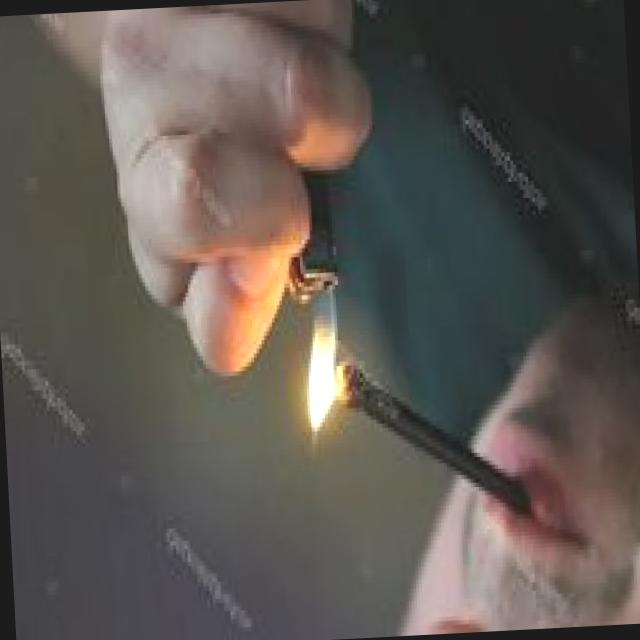smoke: (322, 348, 544, 538)
